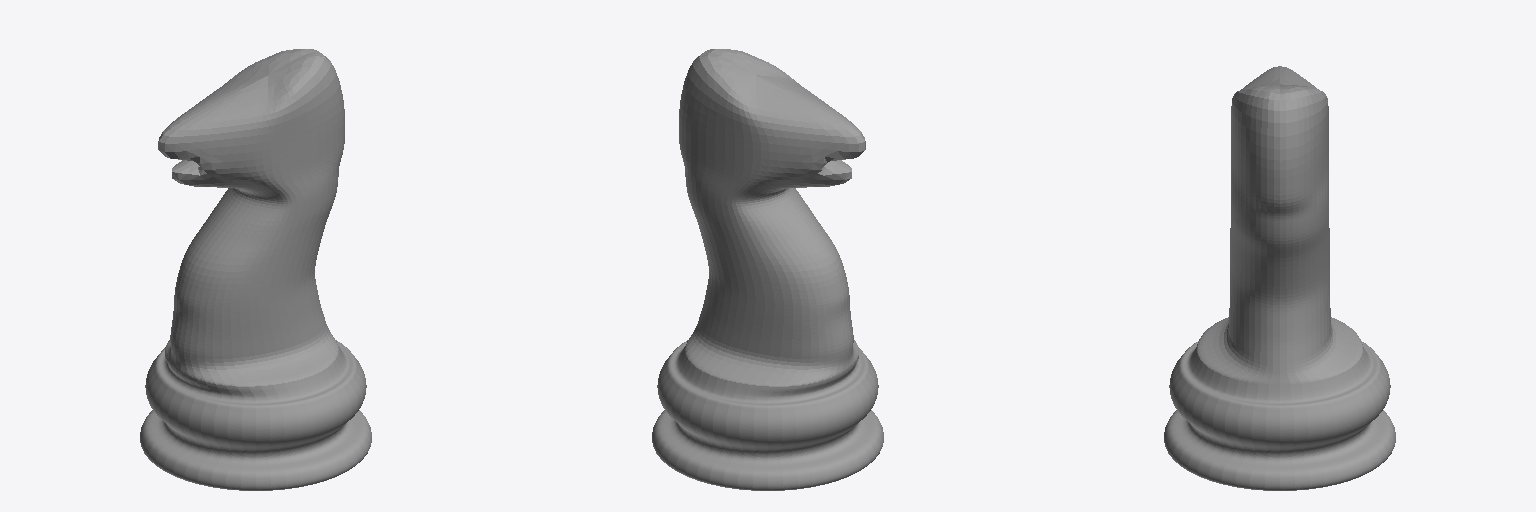
File: knight.obj
3 views of the same model, side by side, from view 1: azimuth 30°, elevation 25°; view 2: azimuth 150°, elevation 25°; view 3: azimuth 270°, elevation 25° (orthographic).
Visible parts, largest first — view 1: mesh01.003; view 2: mesh01.003; view 3: mesh01.003.
Part boxes in pixels (x1,y1,x2,y2): mesh01.003: (140,49,371,490); mesh01.003: (652,49,883,490); mesh01.003: (1164,66,1395,490).
Bounding box in the file's own units: 11.28 × 20.35 × 11.28.